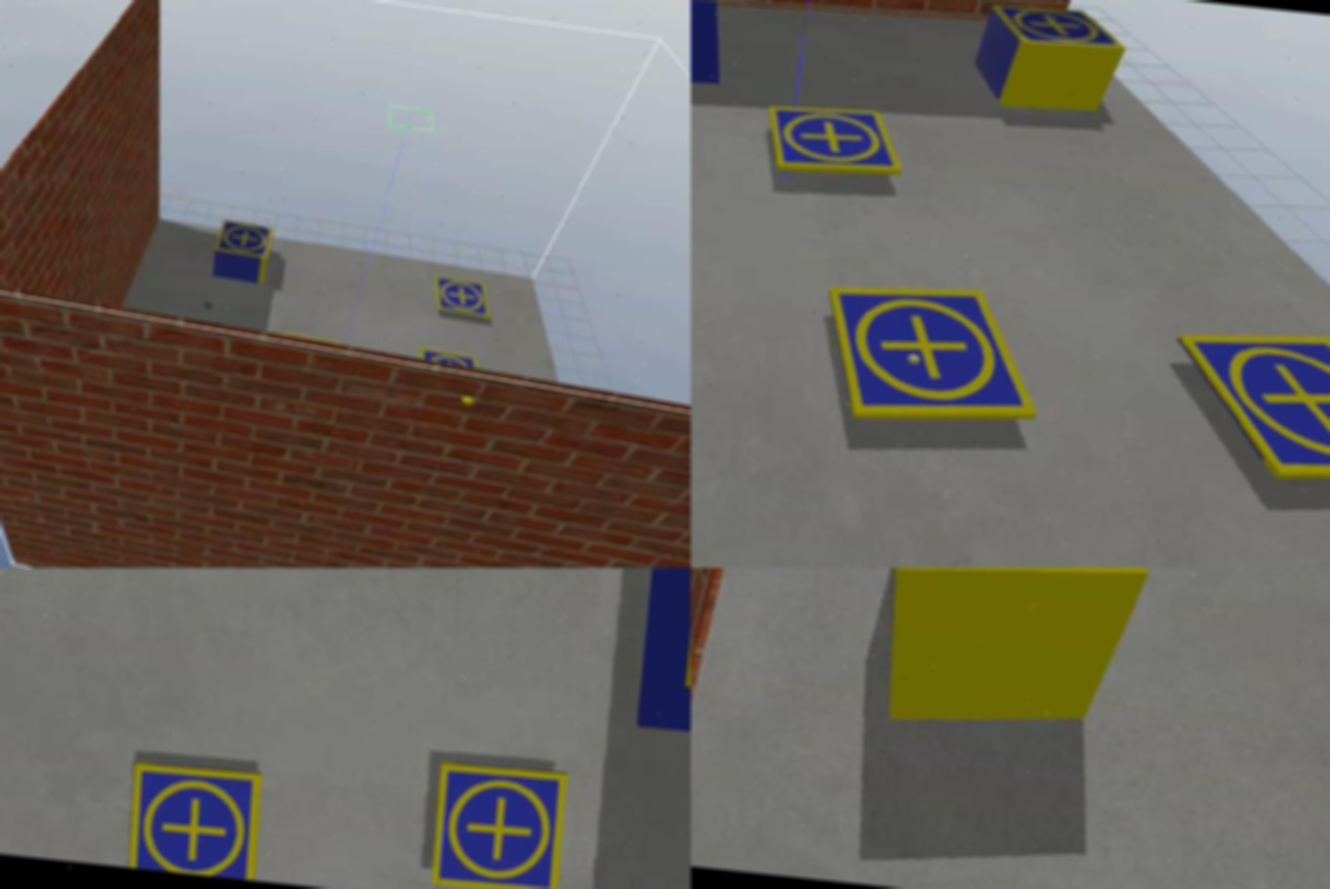small_base: (818, 275, 1048, 433), (1163, 314, 1330, 492), (426, 758, 573, 889), (120, 757, 267, 883), (763, 101, 907, 185), (985, 3, 1132, 58), (431, 273, 497, 323), (215, 218, 278, 262), (419, 349, 481, 373)
